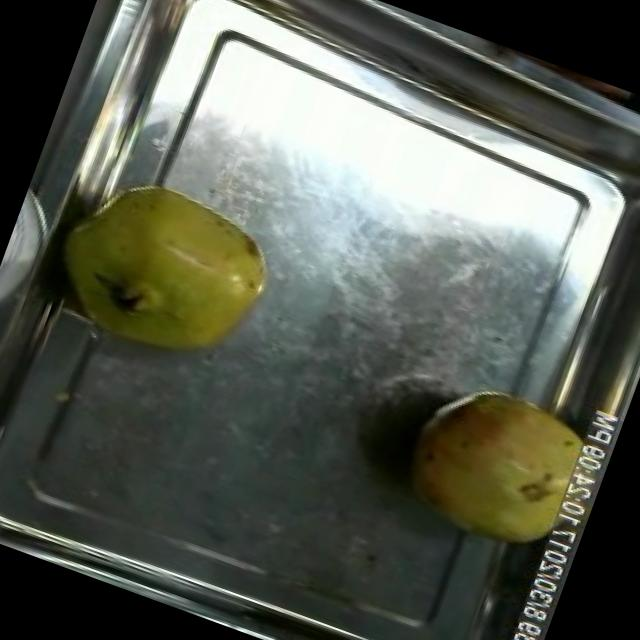fruit: (25, 145, 307, 406), (383, 360, 614, 576)
